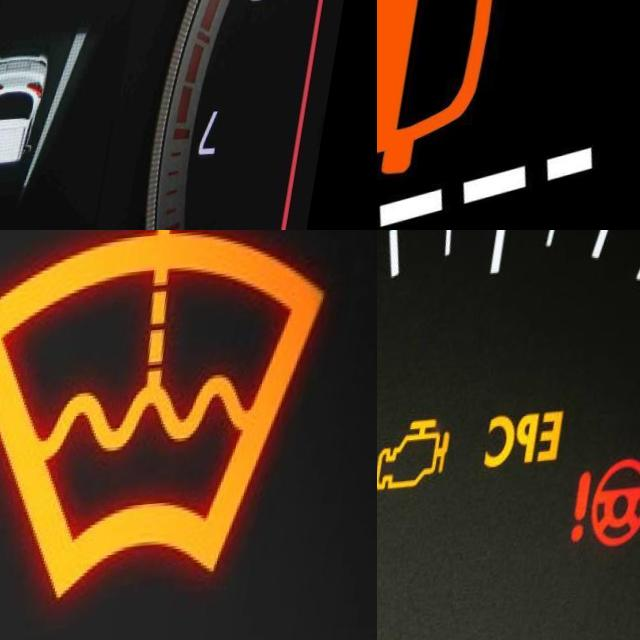Washer Fluid: (0, 230, 356, 609)
